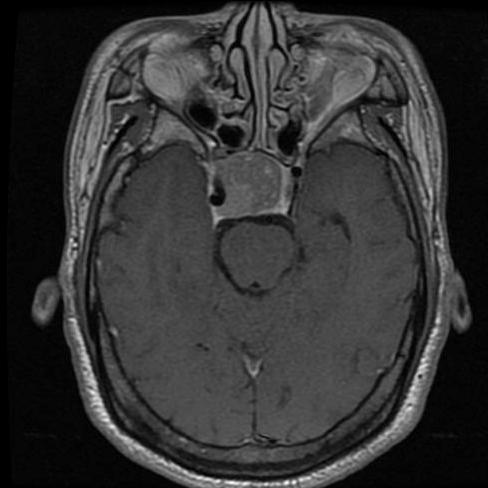Tumour-Pituitary: (206, 160, 304, 229)
